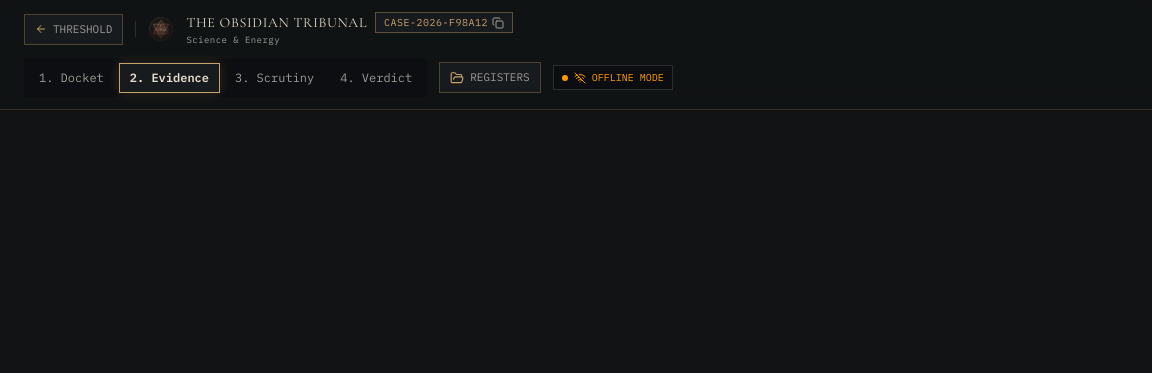
JudicialWorkspace Component › loads active docket from storage and allows navigation between stages
The image size is (1152, 373).
expect the text "CASE-2026-F98A12" is shown: met, box [384,15,488,30]
// Navigate to Scrutiny stage via header tab
Step 1. Click the button "3. Scrutiny" → (275, 78), box [224,62,325,92]
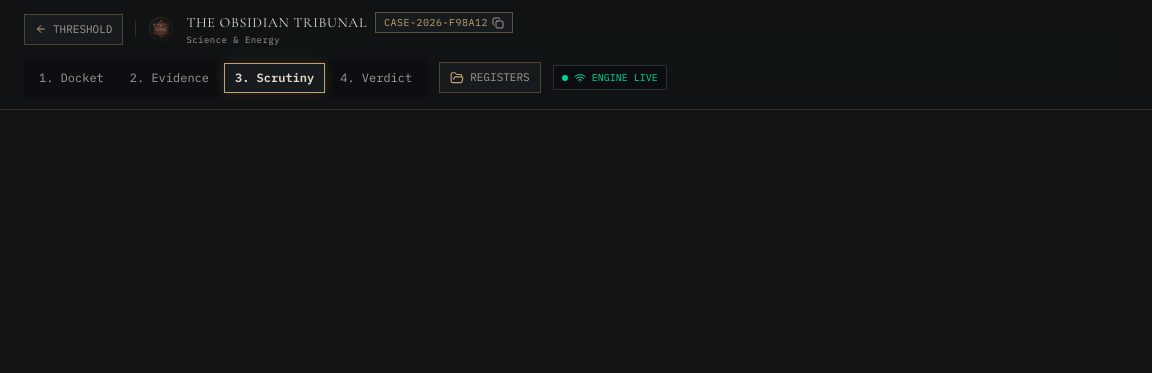
// Navigate to Verdict stage via header tab
Step 2. Click the button "4. Verdict" → (376, 78), box [329,62,423,92]
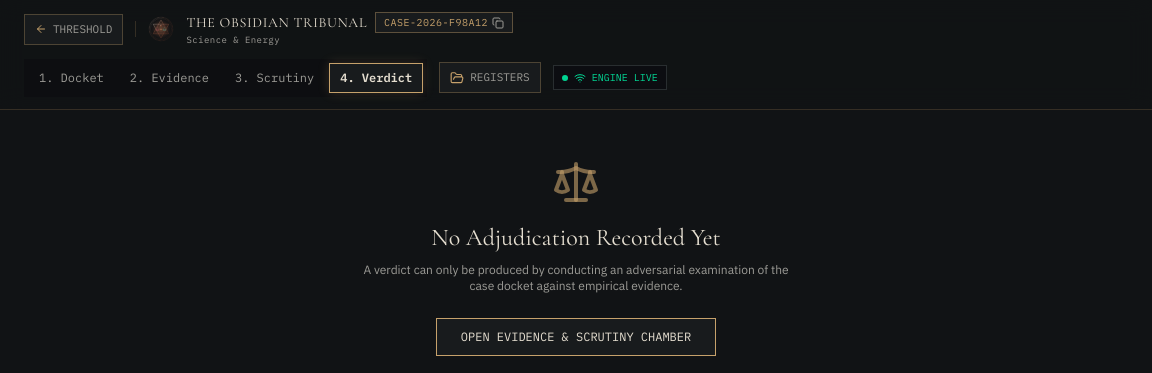
expect the heading "No Adjudication Recorded Yet" is shown: met, box [431,222,721,254]
